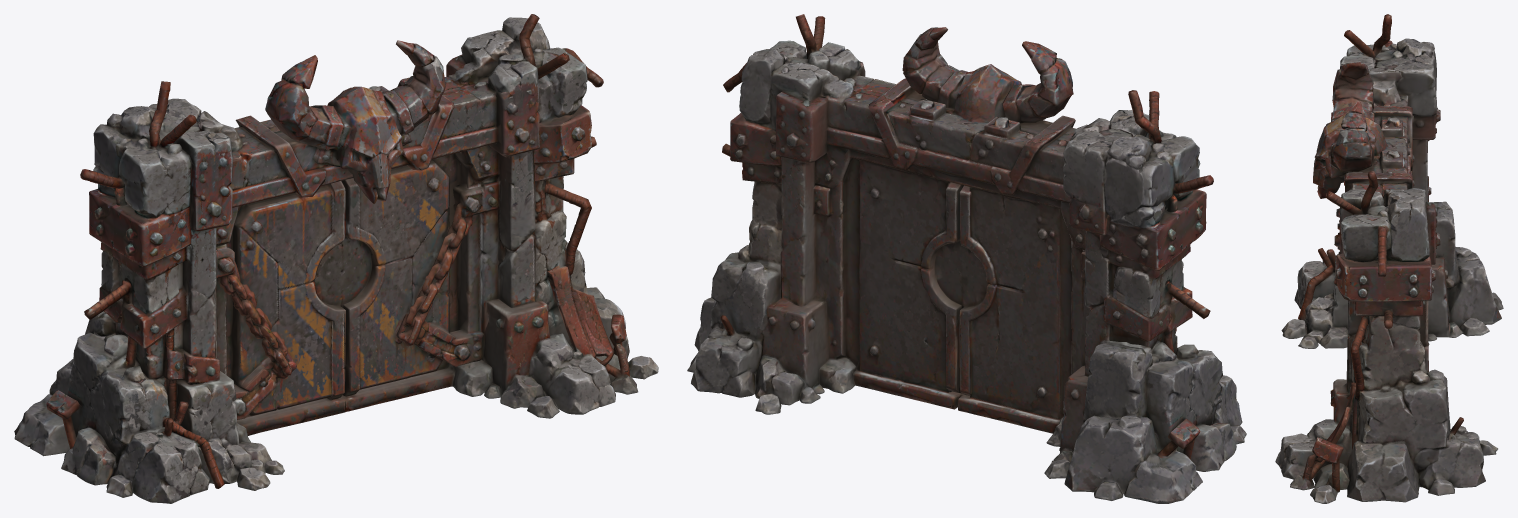
The model's file is boss_door_ruins.glb.
The picture shows the model from 3 angles, left to right: view 1: azimuth 30°, elevation 25°; view 2: azimuth 150°, elevation 25°; view 3: azimuth 270°, elevation 25°; orthographic projection. The views are drawn at different scales.
Parts seen in each view (by area): view 1: tripo_node_37944041-8bc1-4cd2-958b-de15f5bbeef8; view 2: tripo_node_37944041-8bc1-4cd2-958b-de15f5bbeef8; view 3: tripo_node_37944041-8bc1-4cd2-958b-de15f5bbeef8.
Part boxes in pixels (x1,y1,x2,y2): tripo_node_37944041-8bc1-4cd2-958b-de15f5bbeef8: (14, 14, 658, 503); tripo_node_37944041-8bc1-4cd2-958b-de15f5bbeef8: (687, 14, 1246, 503); tripo_node_37944041-8bc1-4cd2-958b-de15f5bbeef8: (1275, 14, 1503, 503).
Bounding box in the file's own units: 1 × 0.6457 × 0.4293.
1 material, 1 textured.
